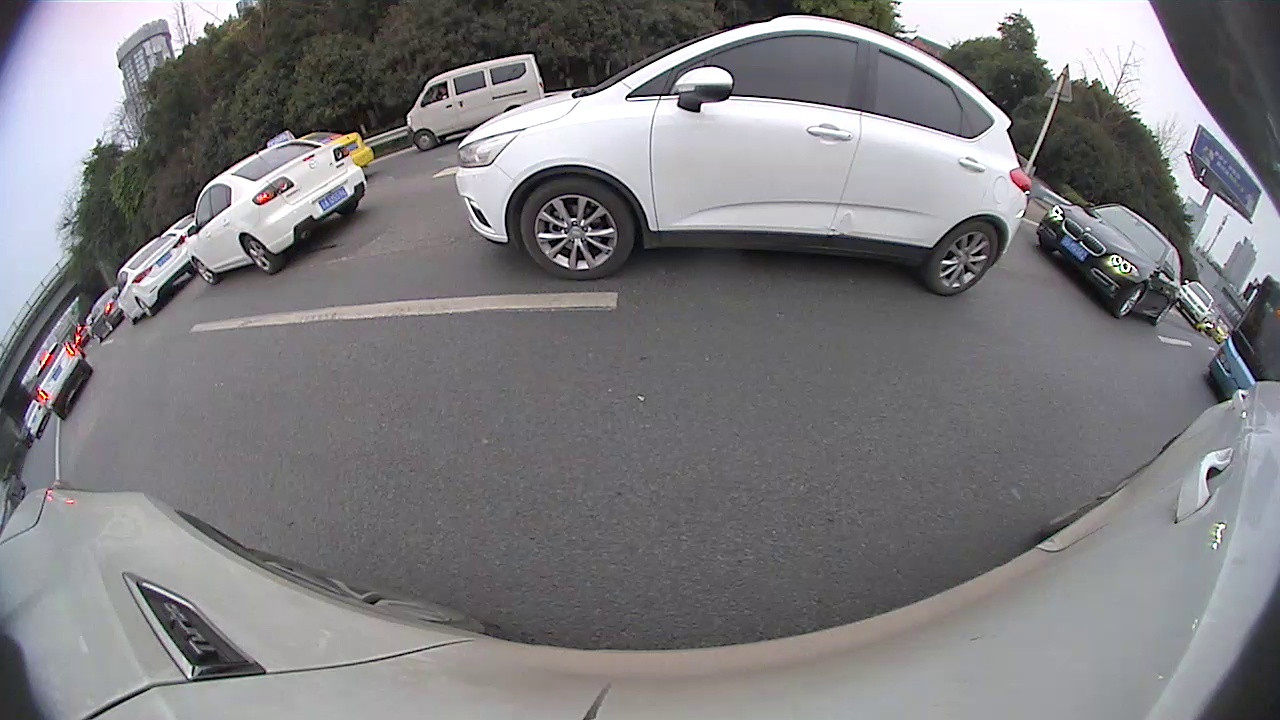bus: (1202, 270, 1279, 402)
car: (453, 9, 1028, 297), (182, 136, 370, 288), (1035, 200, 1186, 324), (402, 49, 545, 152), (111, 230, 196, 326), (28, 336, 93, 422), (83, 286, 125, 341), (17, 398, 47, 442)
front: (517, 174, 641, 281), (1111, 278, 1145, 321), (191, 256, 220, 287), (414, 129, 438, 153)
rear: (923, 217, 1002, 299), (242, 233, 278, 276), (135, 296, 157, 321)
